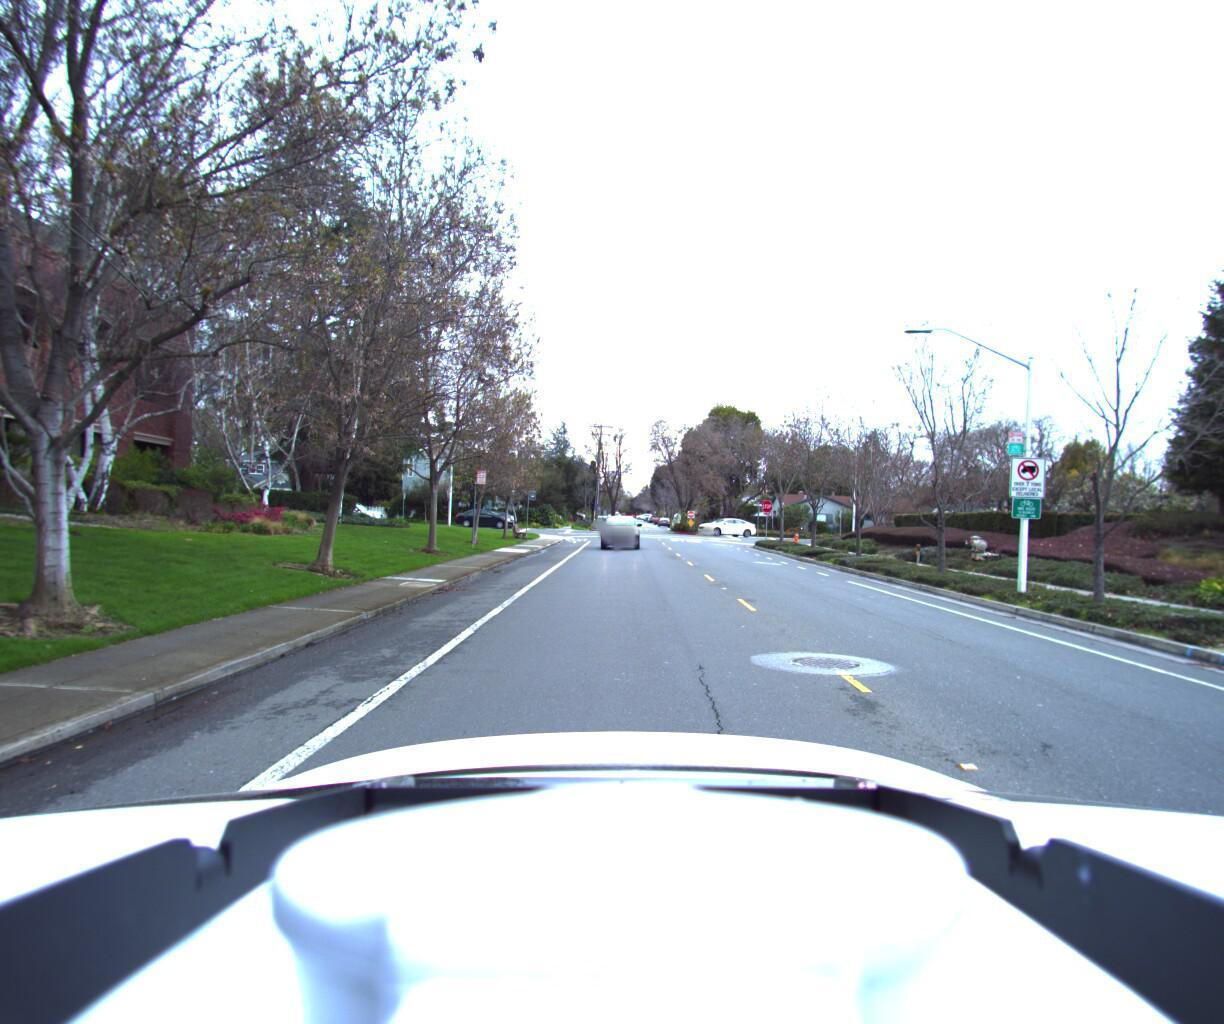car: (315, 499, 384, 526), (598, 517, 639, 553), (444, 508, 511, 531), (686, 519, 751, 541)
